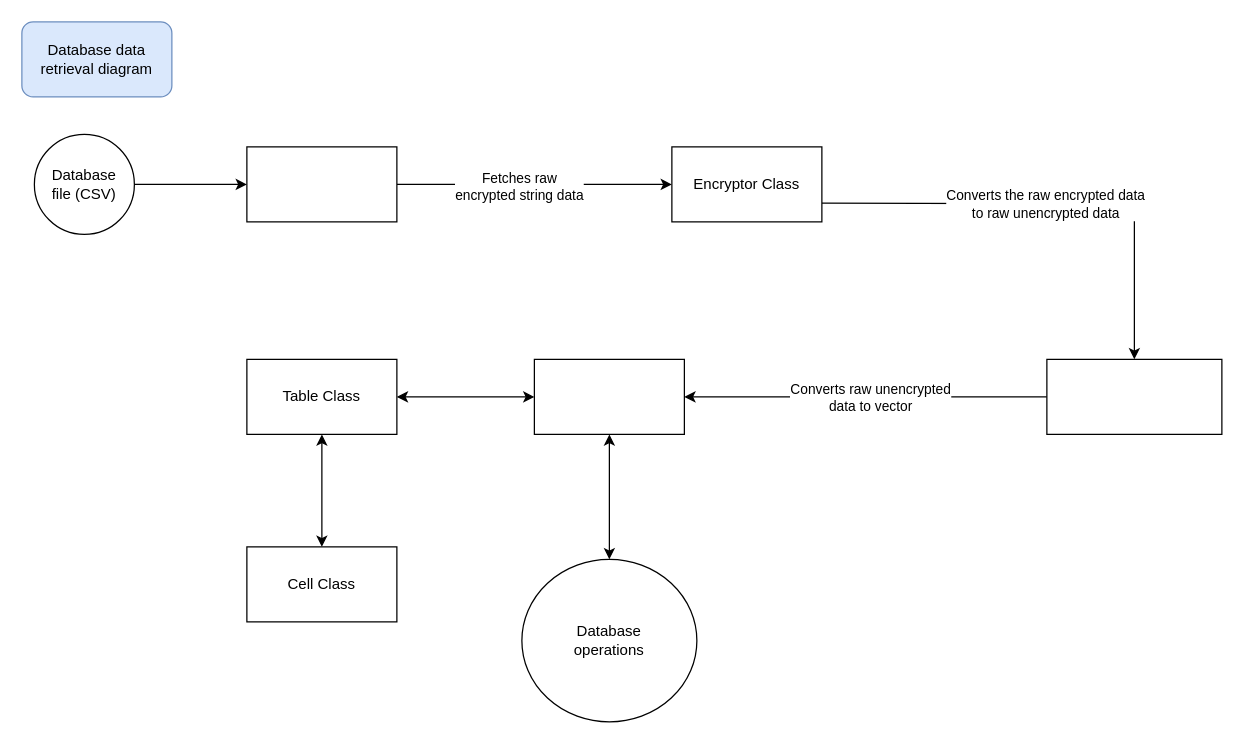
Some shapes in this 1244 by 744 pixel diagram are drawn without their labels. Each missing label, with the centre of its shape:
Database Class: pixel 608 396
FileHandler Class: pixel 321 184
StringVectorConverter Class: pixel 1134 396
